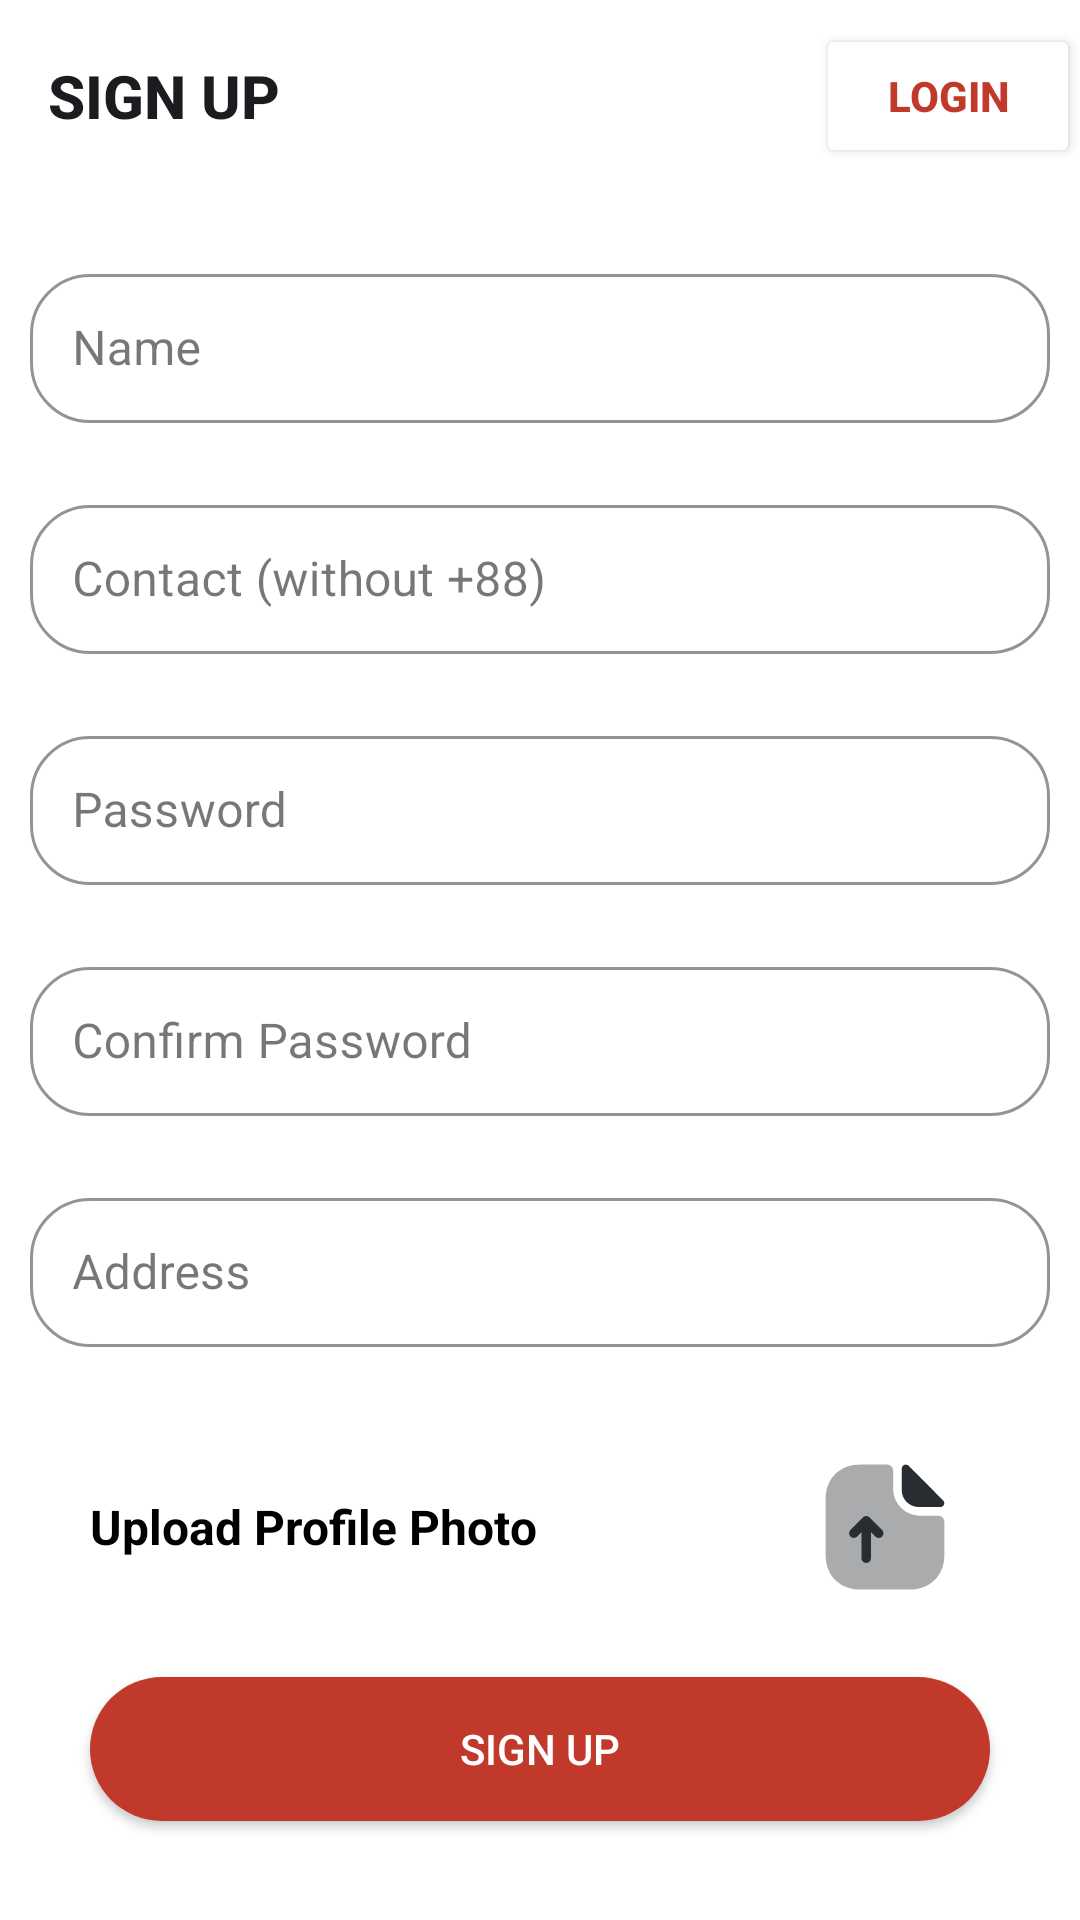

Named icons in this screenshot (1080×1920) and their centers, point (x, y):
document upload: point (885, 1527)
